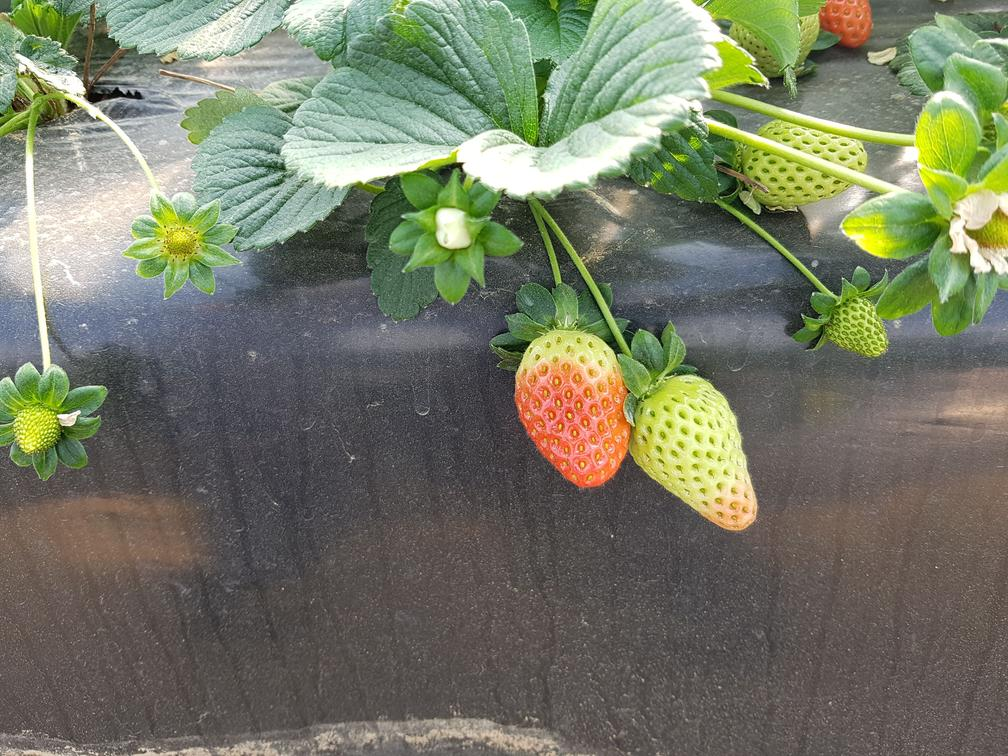Ripe: (510, 321, 634, 486), (817, 0, 888, 50)
Unripe: (631, 384, 769, 536), (745, 107, 875, 210), (820, 289, 893, 359), (10, 405, 60, 465)
